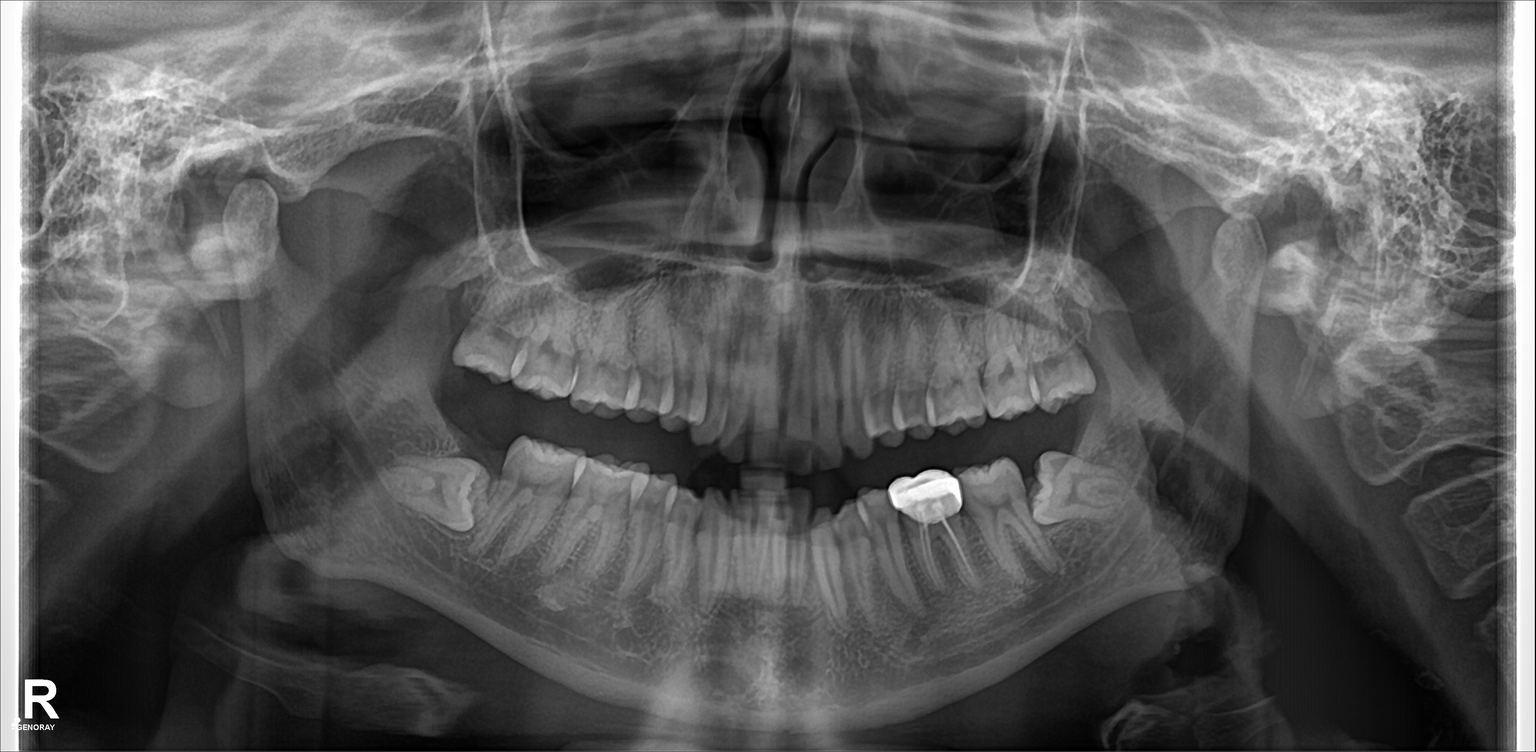Endodontically Treated Tooth: (907, 486, 976, 605)
Impacted Third Molar: (1028, 452, 1144, 524), (363, 467, 481, 530)
